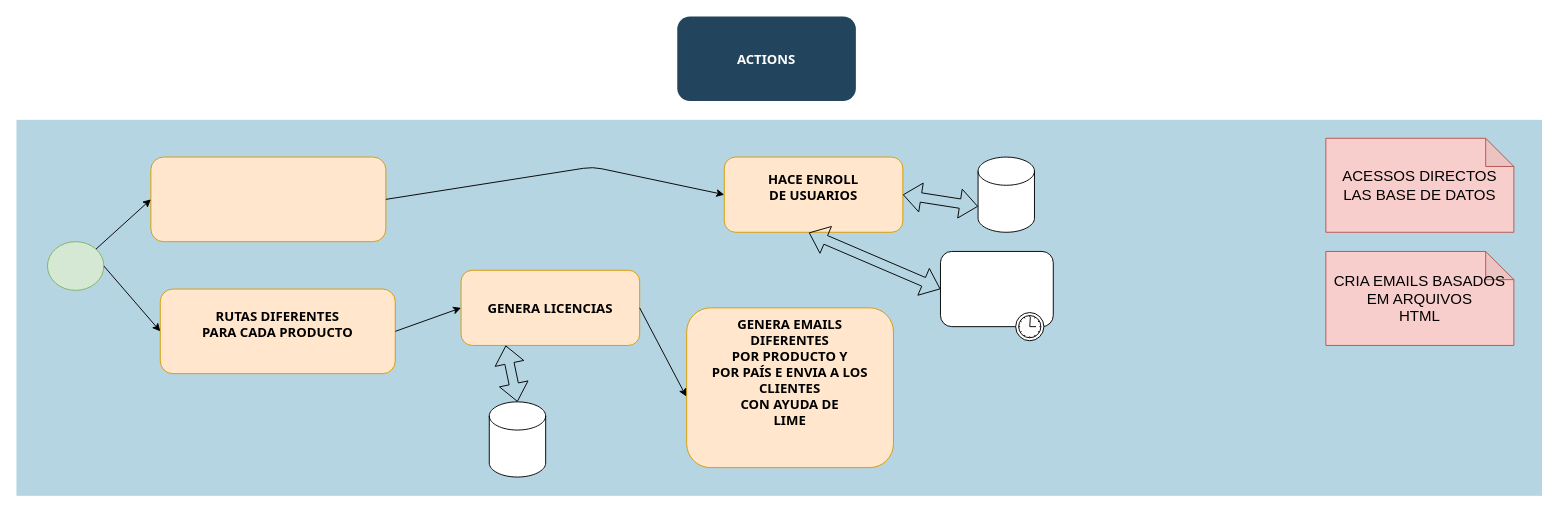
This 1558x511 diagram has some shape labels left out. Each missing label, with the centre of its shape:
"DB ELEVEN" goes at pixel 1005 194.
"DB LIME" goes at pixel 517 439.
"RUTA PARA ENROLL" goes at pixel 268 199.
"Web Service de MOODLES" goes at pixel 996 289.
